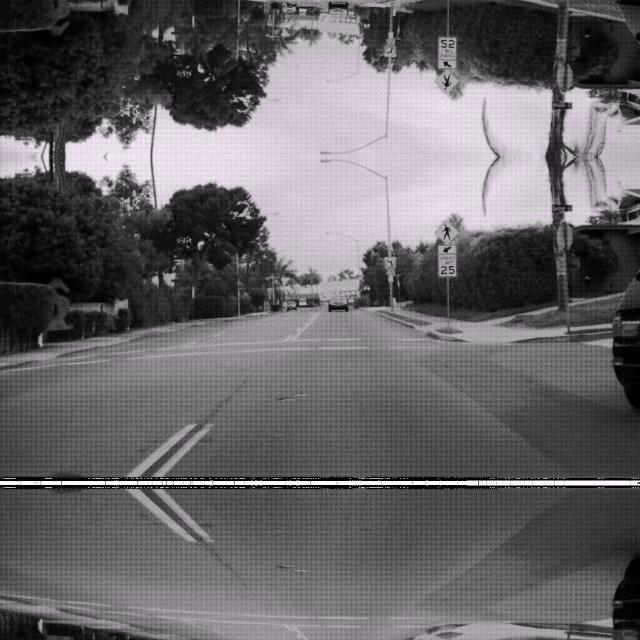pedestrianCrossing: (433, 218, 459, 244), (433, 68, 459, 94)
